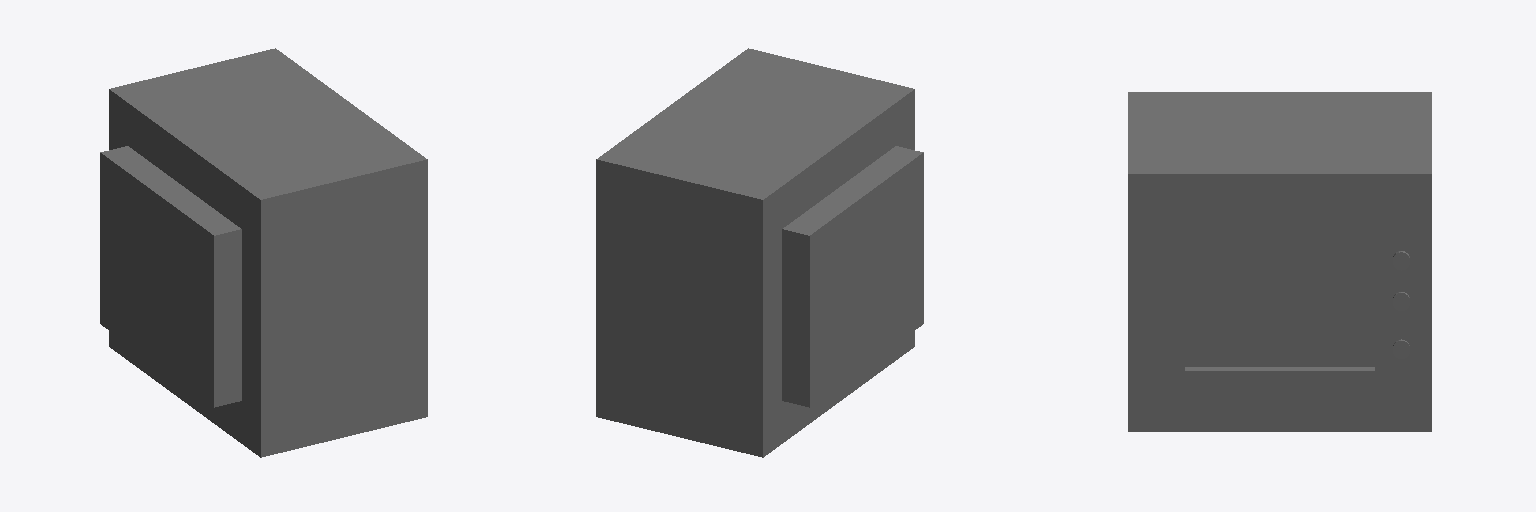
3 renders of one model, left to right at view 1: azimuth 30°, elevation 25°; view 2: azimuth 150°, elevation 25°; view 3: azimuth 270°, elevation 25°, orthographic.
Parts seen in each view (by area): view 1: tv; view 2: tv; view 3: tv, tv.001.
Boxes of the visible parts, box(x1,y1,x2,y2) form: tv: box(100, 48, 427, 457); tv: box(596, 48, 923, 457); tv: box(1128, 92, 1431, 431); tv.001: box(1185, 234, 1374, 366).
Bounding box in the file's own units: 4.03 × 5.03 × 5.37.